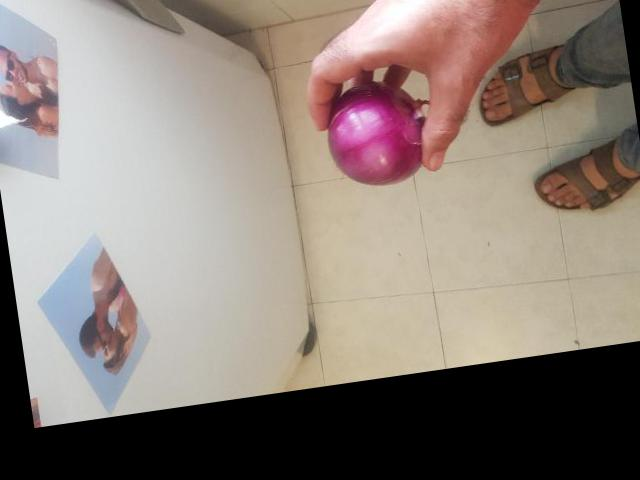onion: (311, 79, 429, 193)
